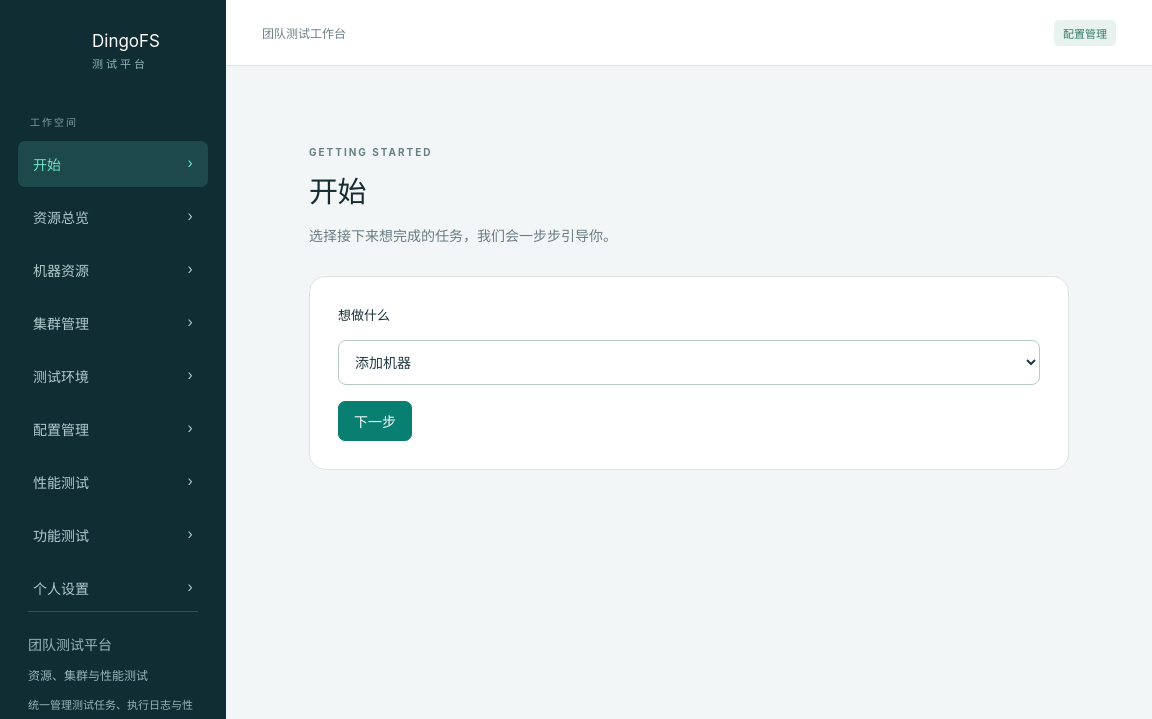
Scenario: start navigation precedes resource overview and opens the chooser
Expected: the heading "开始" is shown, x1=309 y1=174 x2=366 y2=209
Click the button "下一步" at (375, 421), box x1=338 y1=401 x2=412 y2=441
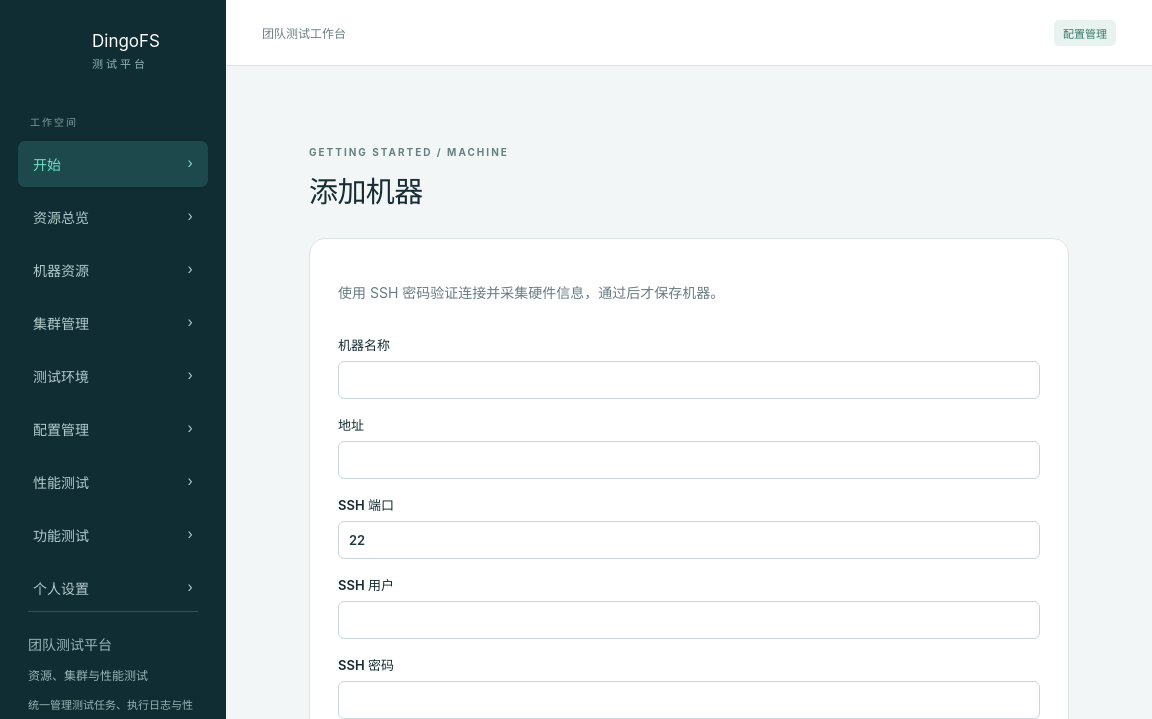
Expected: the heading "添加机器" is shown, x1=309 y1=174 x2=423 y2=209
